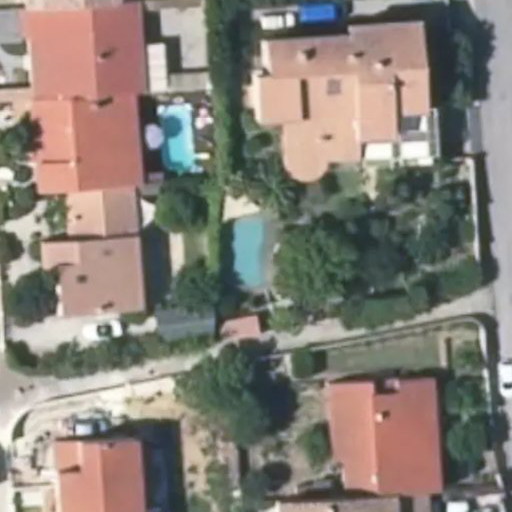pool: (238, 214, 273, 269)
